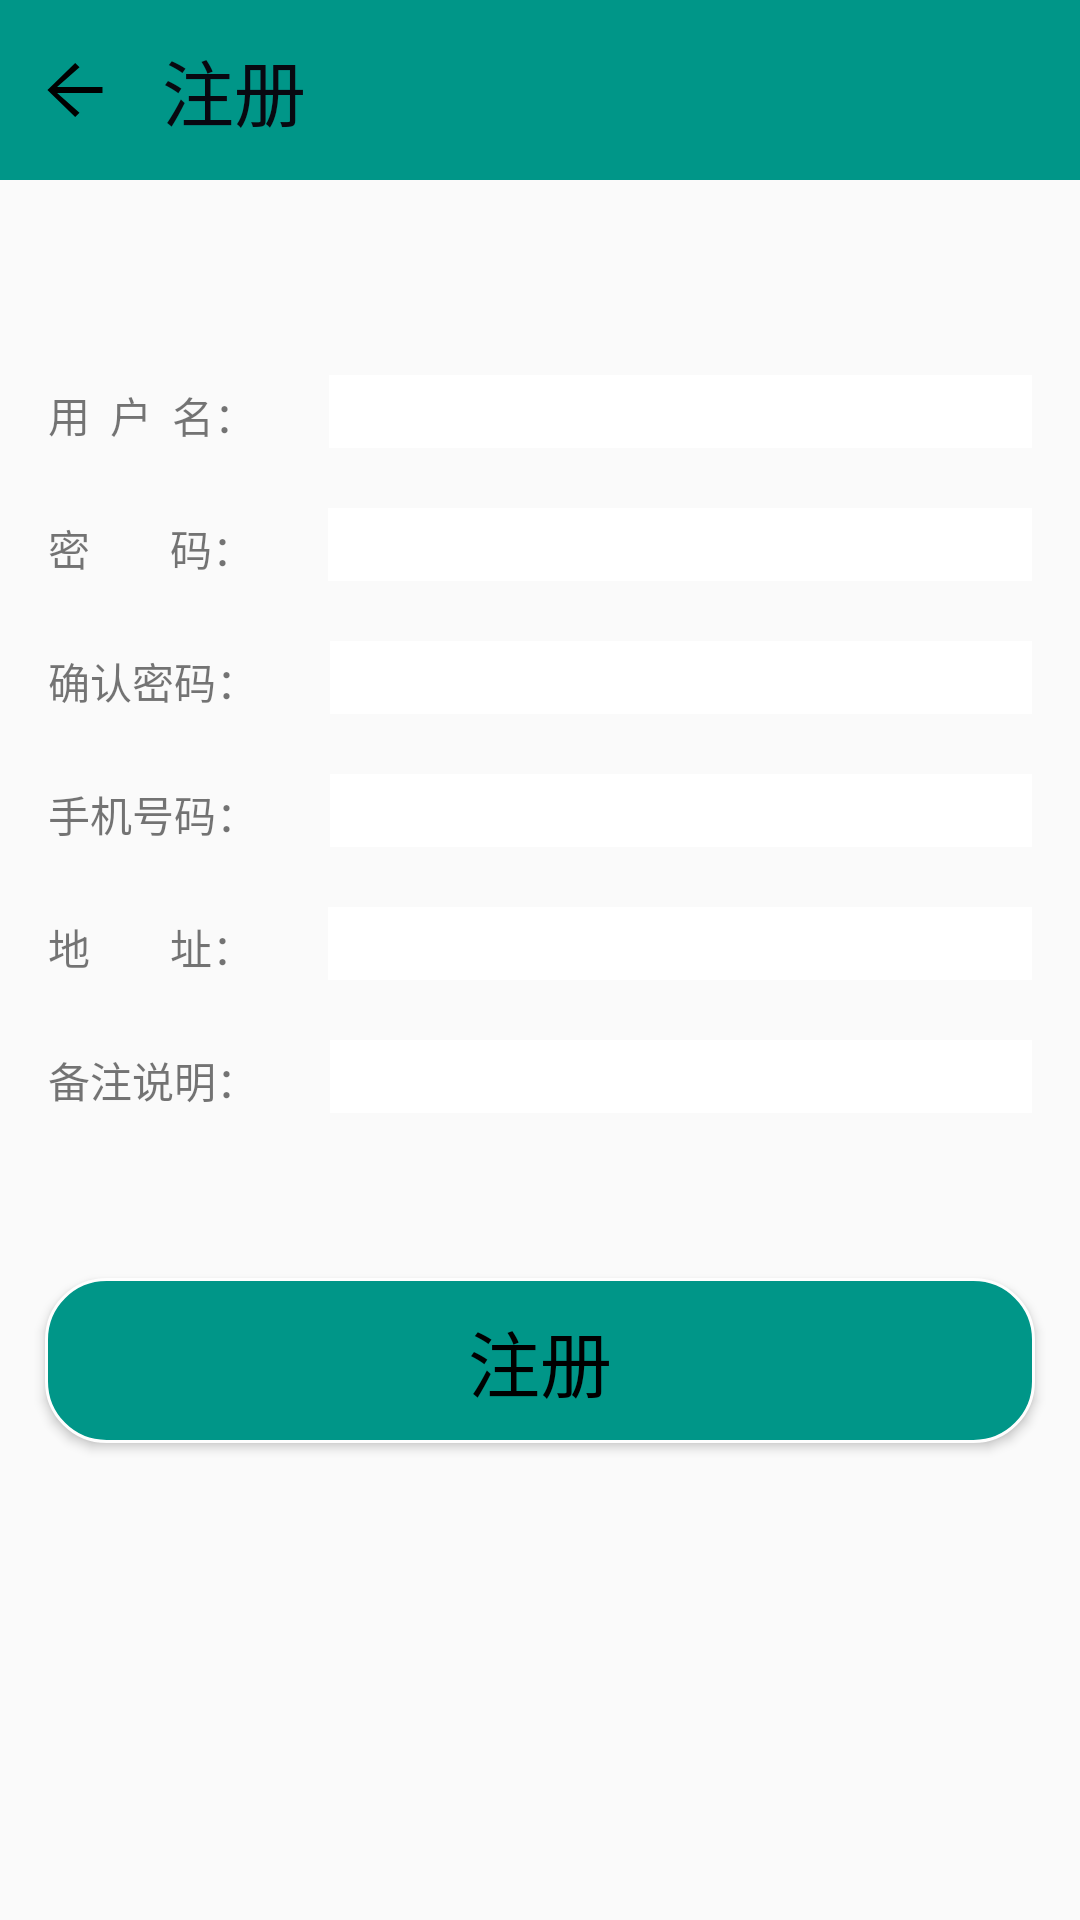

Named icons in this screenshot (1080 × 1920) and their centers, [x,y]:
interface return: [75,90]
